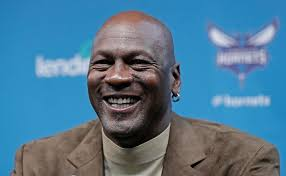black_male: (76, 1, 181, 138)
